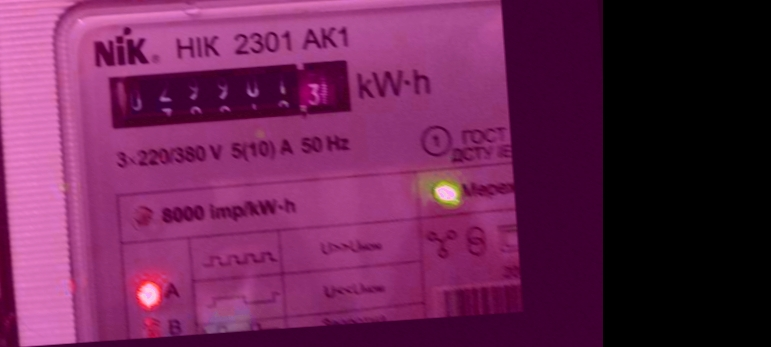0: (124, 84, 144, 112), (242, 70, 260, 100)
1: (273, 67, 288, 96)
2: (153, 76, 173, 104)
3: (303, 80, 322, 107)
9: (183, 74, 201, 102), (214, 73, 229, 101)
screen: (98, 49, 362, 139)
